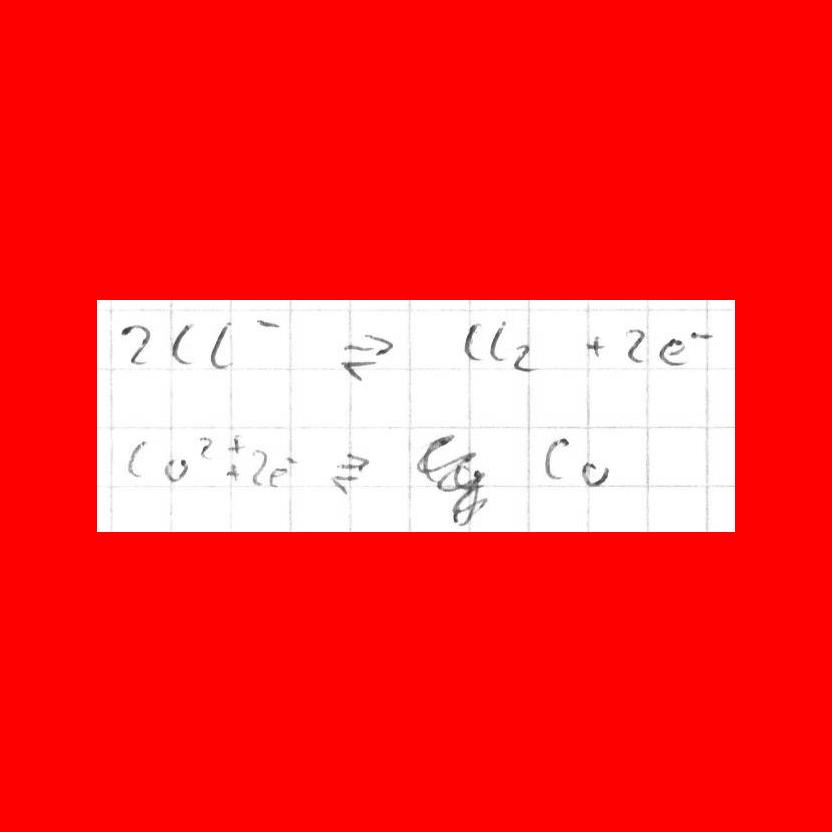Char: (337, 328, 398, 383), (326, 448, 374, 497), (206, 317, 239, 372), (117, 322, 156, 368), (542, 435, 574, 482), (170, 317, 199, 367), (623, 323, 650, 367), (510, 340, 546, 372), (487, 317, 511, 362), (124, 436, 149, 479), (461, 318, 483, 363), (159, 455, 192, 484), (657, 334, 686, 366), (579, 458, 609, 487), (249, 446, 268, 488), (582, 333, 609, 360), (264, 464, 287, 490), (252, 313, 280, 334), (686, 326, 714, 344), (222, 459, 243, 483), (197, 435, 216, 461), (225, 434, 247, 455), (283, 452, 299, 470)
